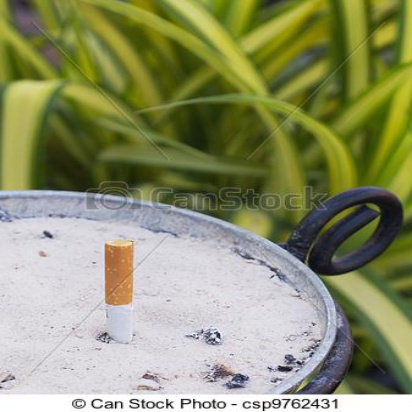cigarette: (98, 233, 138, 347)
